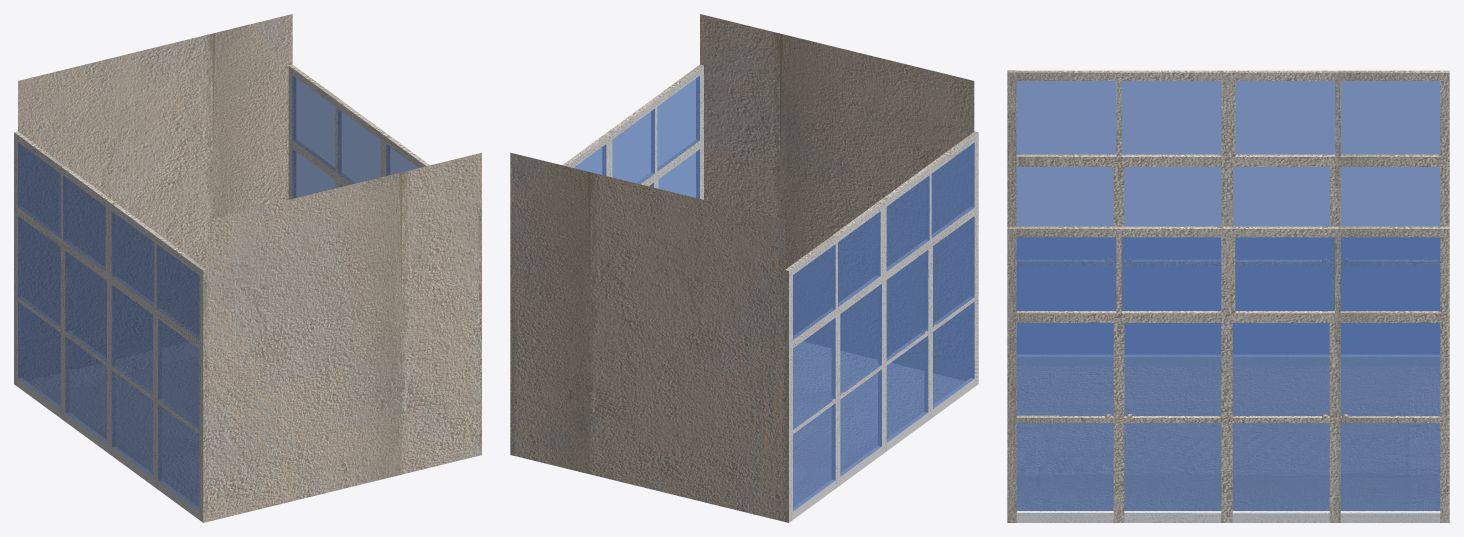
Rendered from COM035.obj.
The picture shows the model from 3 angles, left to right: view 1: azimuth 30°, elevation 25°; view 2: azimuth 150°, elevation 25°; view 3: azimuth 270°, elevation 25°; orthographic projection. The views are drawn at different scales.
Parts seen in each view (by area): view 1: Mesh13 COM035 Model, Mesh1 p16_1 COM035 Model, Mesh7 p16_2 COM035 Model; view 2: Mesh13 COM035 Model, Mesh1 p16_1 COM035 Model, Mesh7 p16_2 COM035 Model; view 3: Mesh7 p16_2 COM035 Model, Mesh1 p16_1 COM035 Model, Mesh13 COM035 Model.
Part boxes in pixels (x1,y1,x2,y2): Mesh13 COM035 Model: (18,14,481,521); Mesh1 p16_1 COM035 Model: (14,131,207,522); Mesh7 p16_2 COM035 Model: (288,64,481,455); Mesh13 COM035 Model: (510,14,974,521); Mesh1 p16_1 COM035 Model: (785,131,978,522); Mesh7 p16_2 COM035 Model: (510,64,703,455); Mesh7 p16_2 COM035 Model: (1007,226,1449,522); Mesh1 p16_1 COM035 Model: (1007,70,1449,366); Mesh13 COM035 Model: (1017,367,1439,510).
Size of the model in its own units: 3.47 by 3.6 by 4.09.
6 materials, 2 textured.
